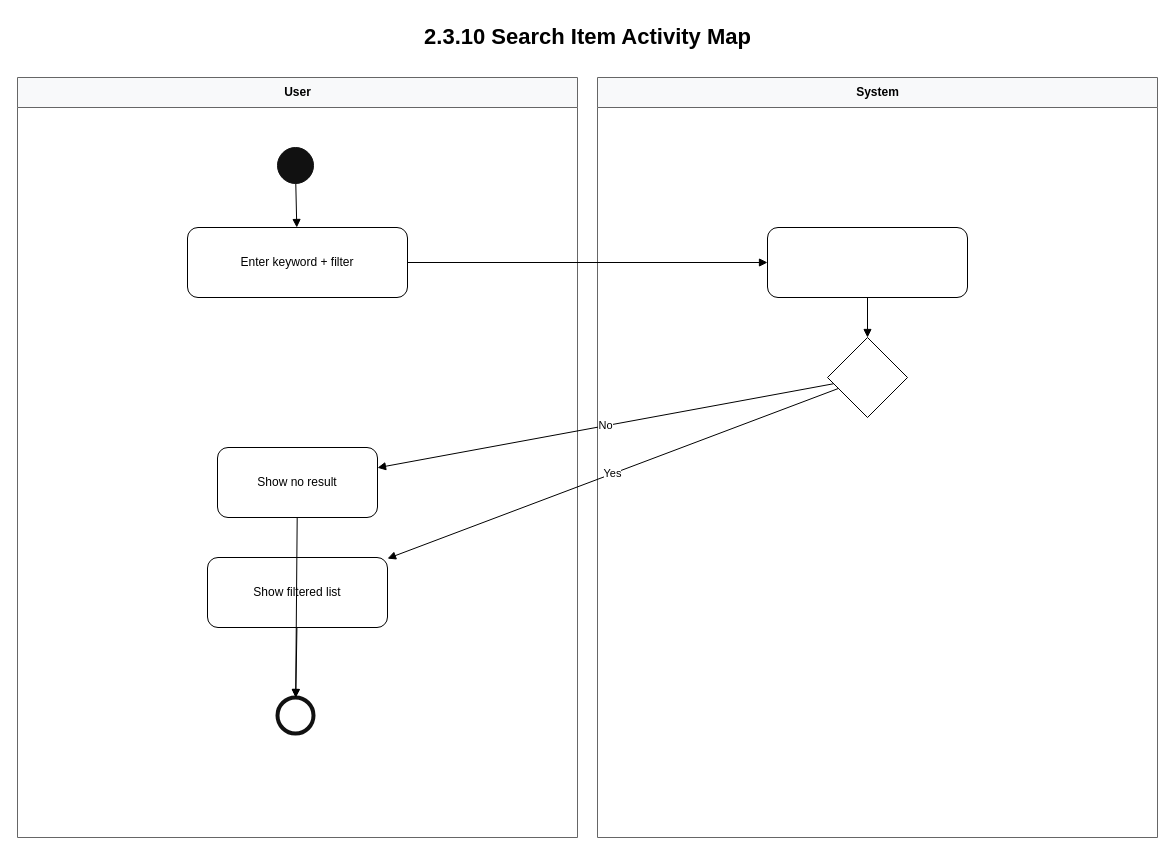
The diagram is 1175 pixels wide and 855 high, and some of its shapes have lost their labels. The shapes that lost their labels are listed below. From the top down, each one's centre as x and y in pixels, then its label:
At point (867, 262): "Run search local/API".
At point (867, 377): "Found?".
